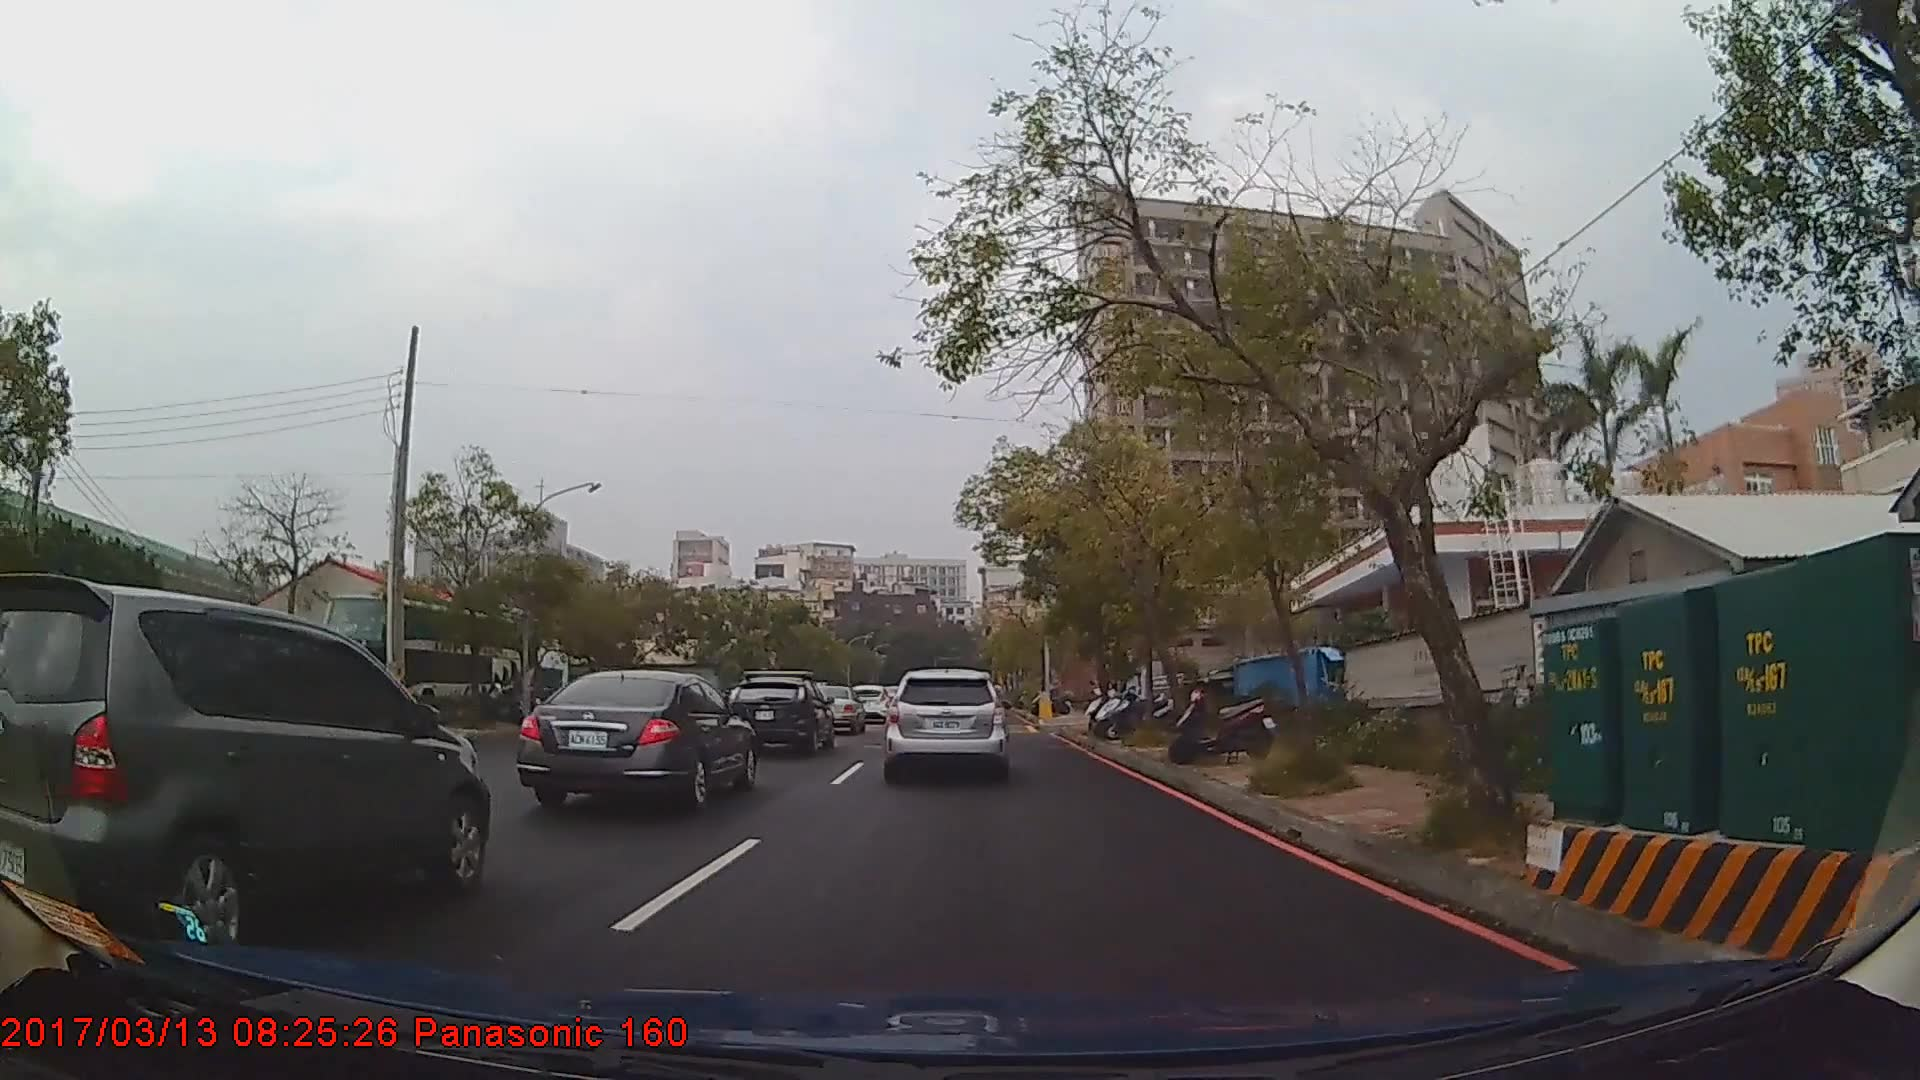vehicle: (0, 576, 487, 942), (516, 666, 758, 814), (320, 593, 522, 709), (884, 666, 1010, 781), (727, 669, 833, 754), (810, 683, 866, 735), (847, 682, 891, 723)
